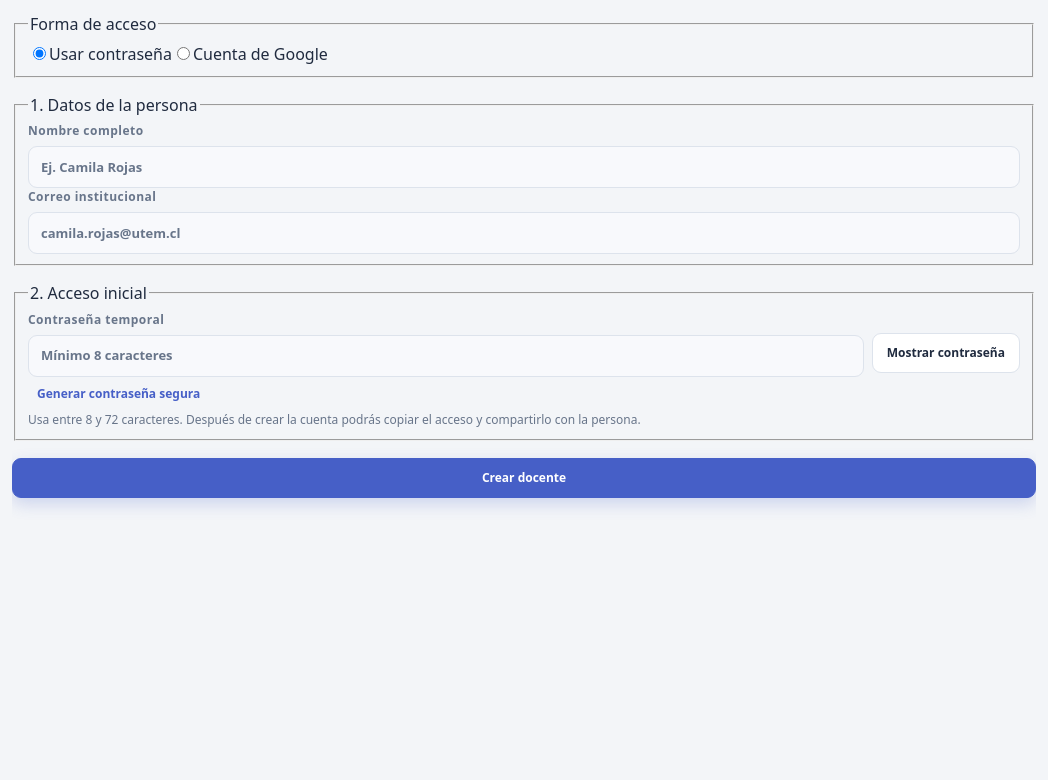
Test: crear docente › muestra el error junto al formulario y conserva los datos para reintentar
The width and height of the screenshot is (1048, 780).
Type "Ana Pérez" into the field labelled "Nombre completo". click: (524, 167)
box: [28,146,1020,188]
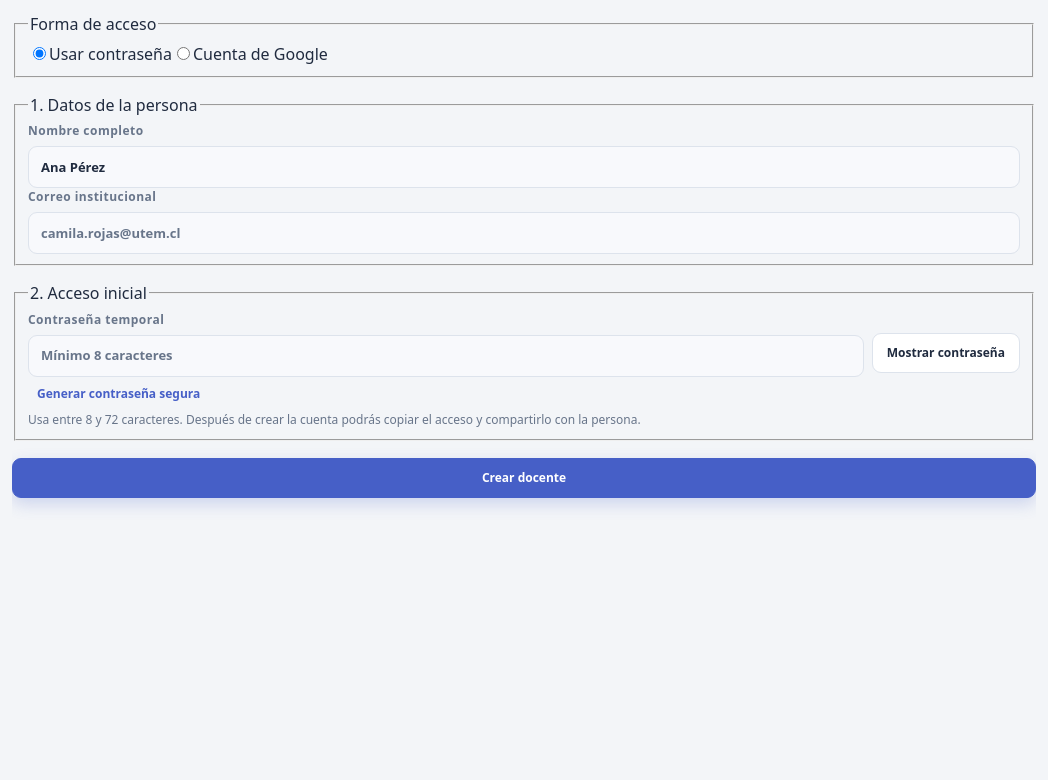
Type "ana@utem.cl" into the field labelled "Correo institucional". click: (524, 233)
box: [28,212,1020,254]
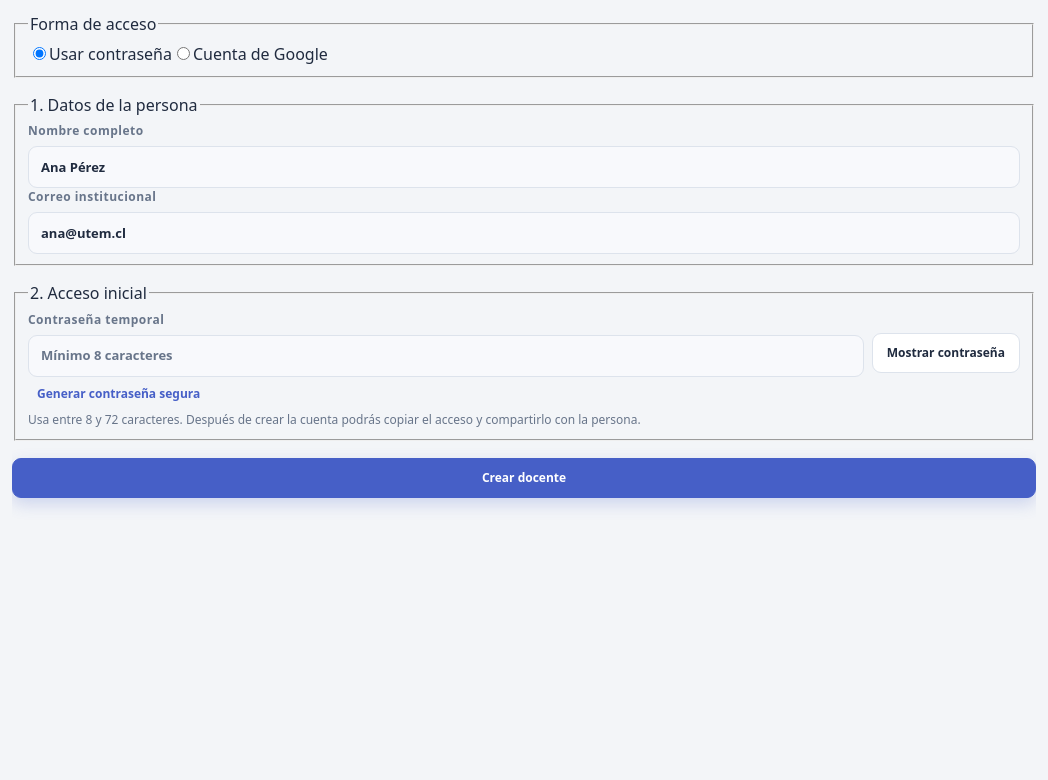
Type "temporal1234" into the password field labelled "Contraseña temporal". click: (446, 356)
box: [28,335,864,377]
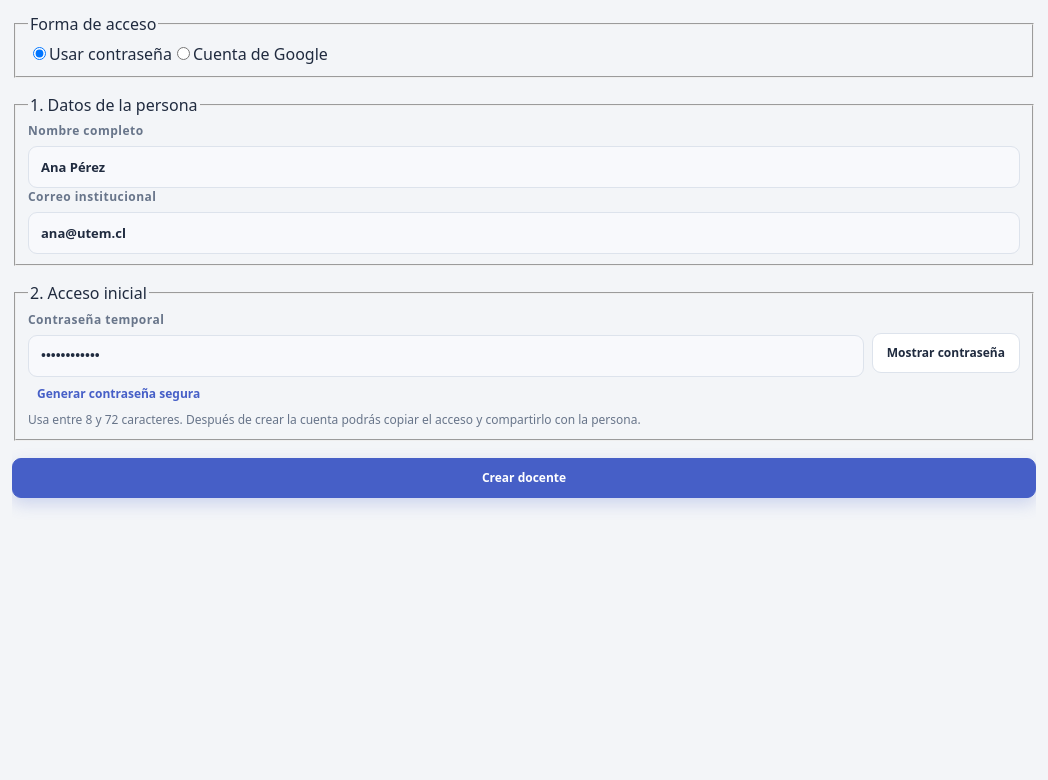
Click the button "Crear docente". click: click(524, 478)
box: [12,458,1036,498]
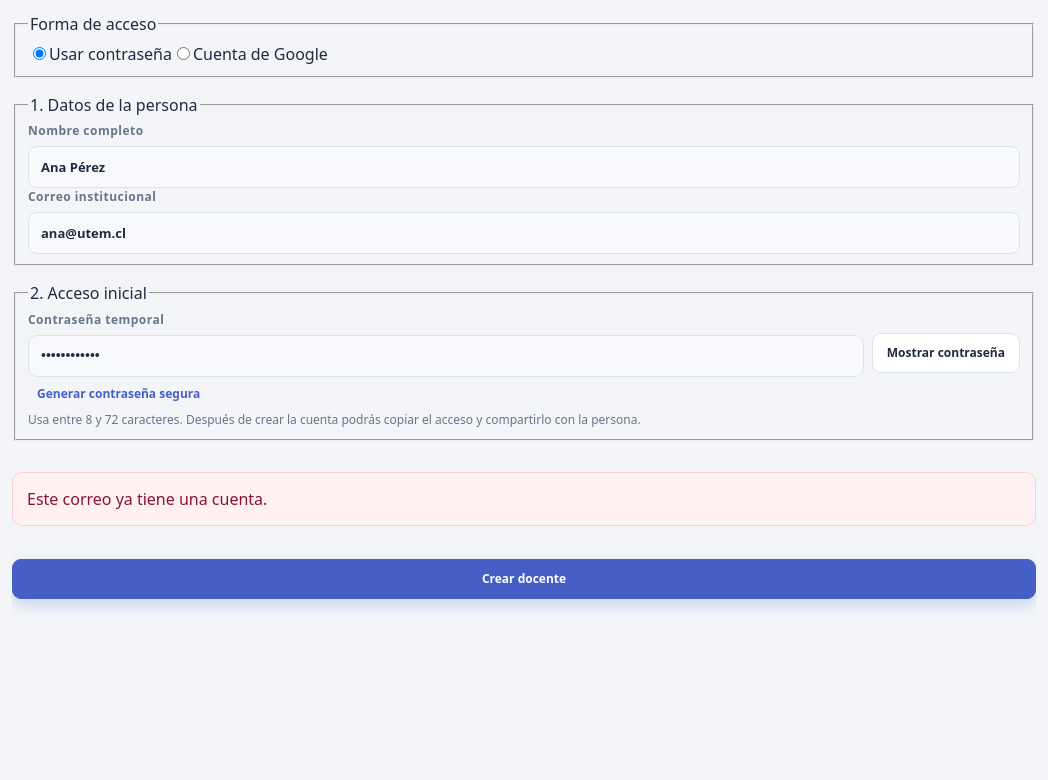
Now the message reads "Este correo ya tiene una cuenta.", box [27,488,267,510]
